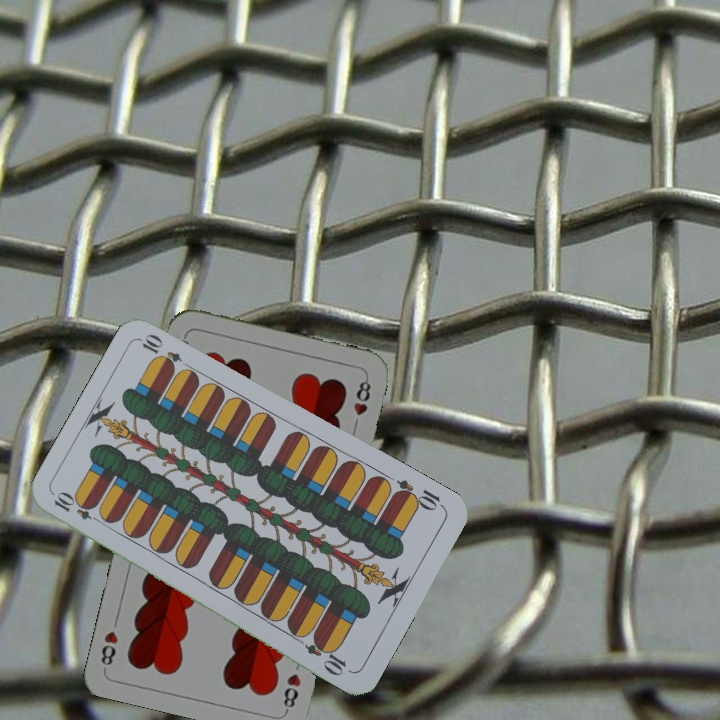E10: (390, 475, 447, 514), (50, 489, 106, 527)
H8: (279, 669, 304, 715)
